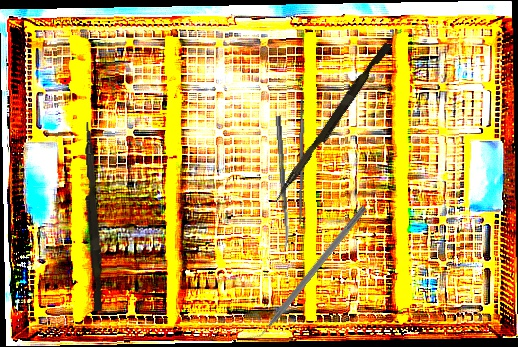Chopper: (243, 199, 368, 347)
Pusher: (272, 39, 392, 208), (77, 121, 108, 312)
Scalpel Handle: (297, 98, 306, 225)
Surgical Spoon: (274, 115, 291, 251)
